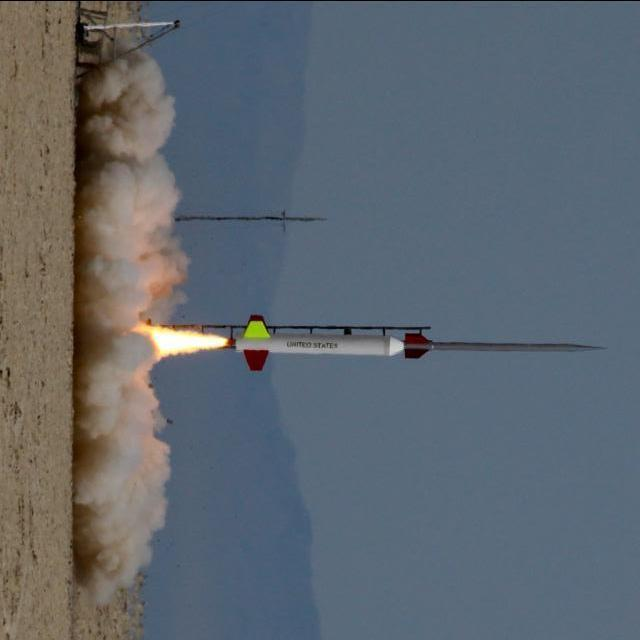missile: (230, 306, 617, 380)
